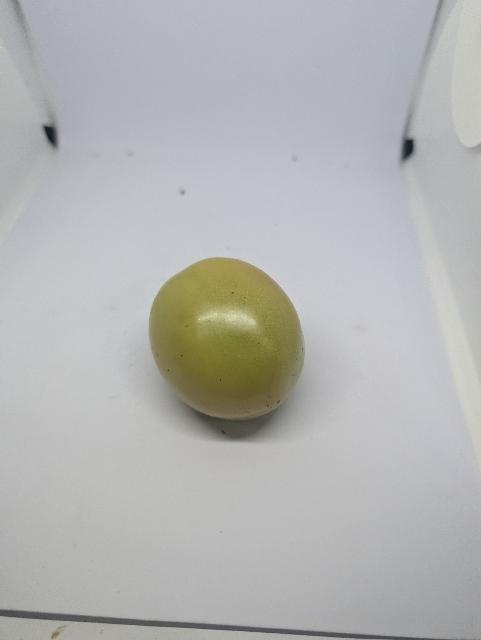breaker: (141, 260, 315, 423)
